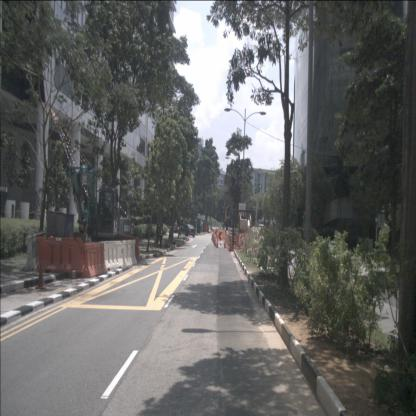barrier: (36, 237, 84, 273), (81, 242, 107, 278), (24, 231, 46, 272), (100, 240, 123, 270), (122, 236, 140, 262), (122, 240, 138, 267), (235, 234, 247, 249)
cone: (35, 262, 46, 290), (228, 234, 233, 251), (211, 233, 216, 247), (223, 238, 226, 248), (216, 238, 219, 247)
